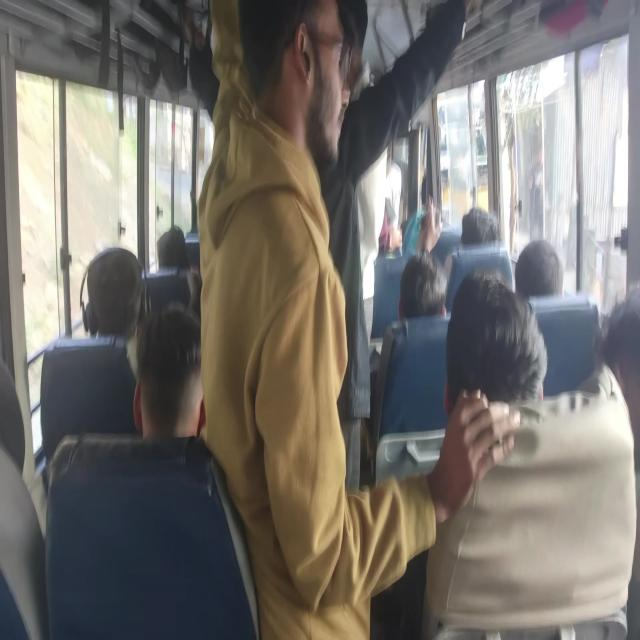person: (248, 1, 347, 166), (443, 270, 546, 411), (376, 316, 453, 448), (0, 344, 50, 524), (322, 0, 393, 119), (136, 302, 203, 398), (598, 278, 640, 410), (82, 235, 147, 320), (372, 249, 410, 337), (513, 238, 563, 300), (461, 208, 502, 247), (427, 228, 464, 271), (156, 227, 189, 272)
